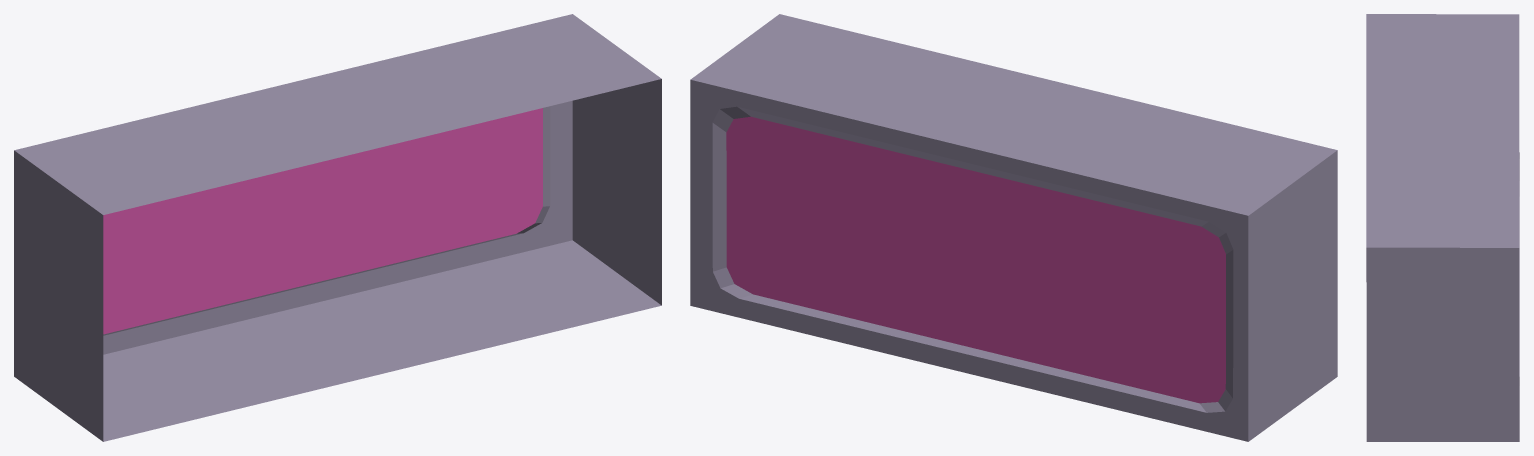
Rendered from TinyKart_LicensePlate.fbx.
3 views of the same model, side by side, from view 1: azimuth 30°, elevation 25°; view 2: azimuth 150°, elevation 25°; view 3: azimuth 270°, elevation 25° (orthographic). The views are drawn at different scales.
Visible parts, largest first — view 1: TinyKart_LicensePlate; view 2: TinyKart_LicensePlate; view 3: TinyKart_LicensePlate.
Boxes of the visible parts, x1=… form: TinyKart_LicensePlate: x1=14, y1=14, x2=661, y2=441; TinyKart_LicensePlate: x1=690, y1=14, x2=1337, y2=441; TinyKart_LicensePlate: x1=1366, y1=14, x2=1519, y2=441.
Bounding box in the file's own units: 0.4299 × 0.1668 × 0.119.
